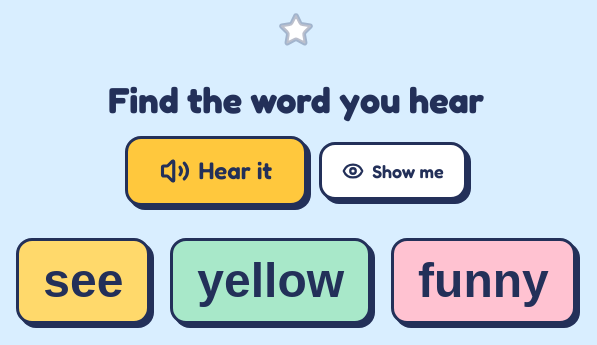
Test: WordHunt › says the word and offers a hint when the device can speak
expect the heading "Find the word you hear" is shown: met, box [108,78,484,121]
Click the button "Show me" at (393, 171), box [319,142,466,200]
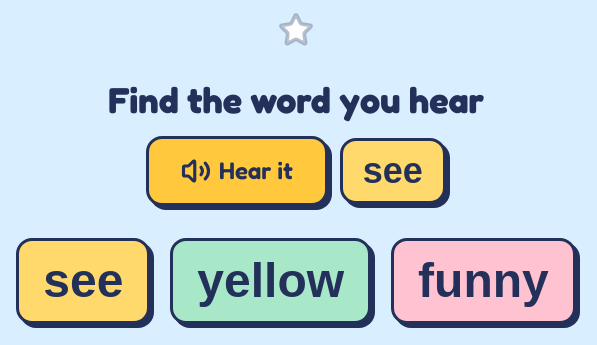
expect the button "Show me" is gone: met
